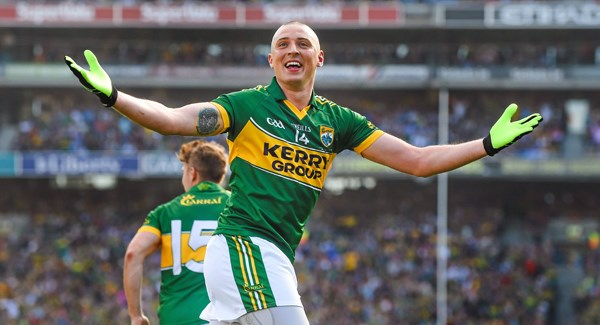player: (189, 17, 406, 313), (131, 133, 245, 323)
